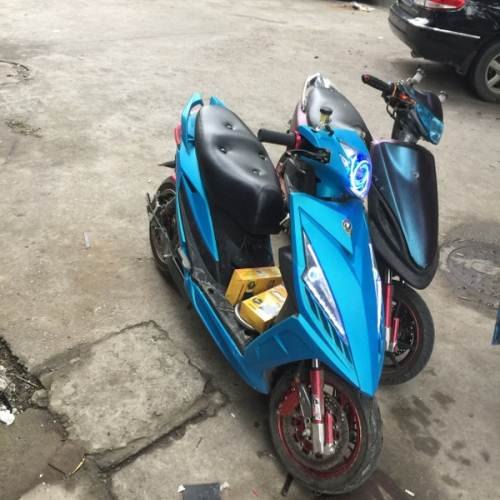电动车: (145, 72, 380, 494), (355, 64, 452, 389)
